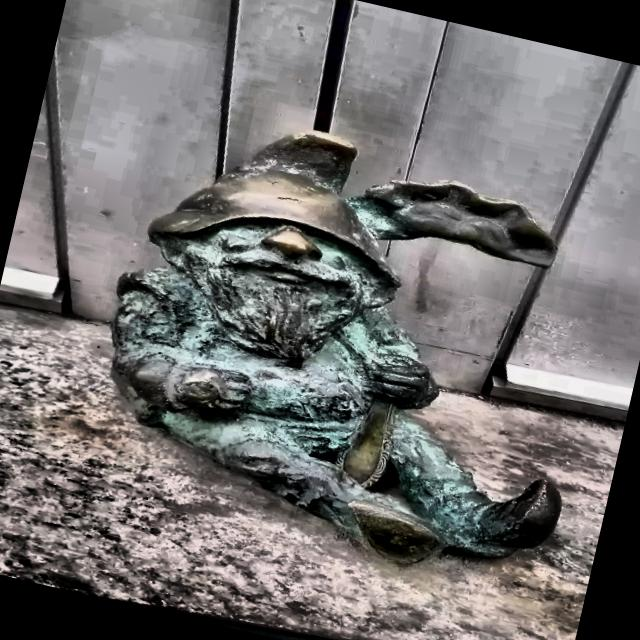Pieroznik: (110, 129, 557, 567)
